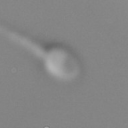normal: (1, 23, 42, 66)
